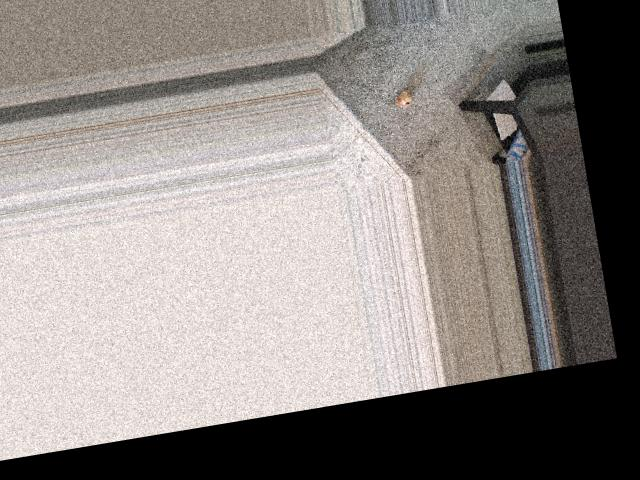onion: (389, 83, 415, 111)
